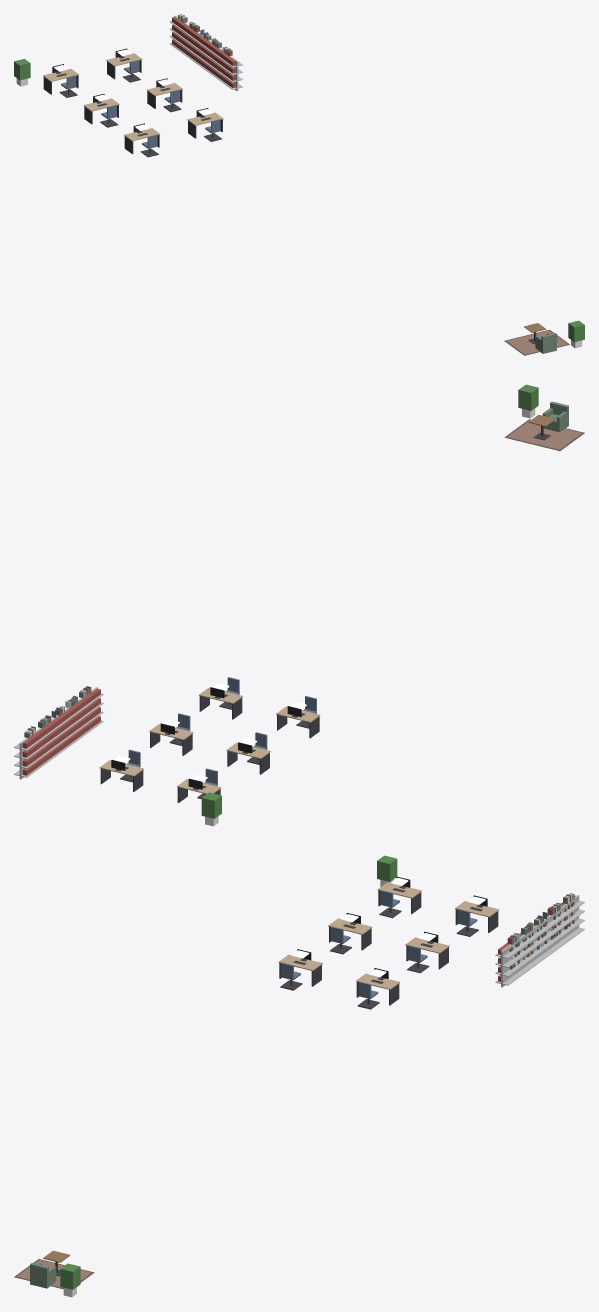
File: fine-s1.glb
3 views of the same model, one above another, from view 1: azimuth 30°, elevation 25°; view 2: azimuth 150°, elevation 25°; view 3: azimuth 330°, elevation 25° (orthographic). The views are drawn at different scales.
Parts seen in each view (by area): view 1: soft-s1, shelving.004, shelving.000, shelving.003, shelving.002, office-desk-real.004, office-desk-real.005, office-desk-real.000, office-desk-real.001, office-desk-real.003, shelving.001; view 2: soft-s1, shelving.000, shelving.004, shelving.001, office-desk-real.005, office-desk-real.002, office-desk-real.004, office-desk-real.001, office-desk-real.003, shelving.003, shelving.002, plant-medium.001 (+2 smaller); view 3: soft-s1, shelving.004, shelving.000, office-desk-real.005, office-desk-real.001, office-desk-real.002, office-desk-real.003, office-desk-real.004, office-desk-real.000, shelving.003, shelving.002, plant-medium.000 (+2 smaller).
Part boxes in pixels (box(x1,y1,x2,y2)): soft-s1: box(178, 14, 569, 355); shelving.004: box(214, 49, 242, 91); shelving.000: box(169, 15, 190, 56); shelving.003: box(203, 40, 224, 81); shelving.002: box(192, 33, 213, 72); office-desk-real.004: box(124, 123, 160, 153); office-desk-real.005: box(187, 108, 223, 138); office-desk-real.000: box(43, 64, 79, 94); office-desk-real.001: box(106, 48, 142, 79); office-desk-real.003: box(147, 78, 182, 108); shelving.001: box(181, 24, 203, 64); soft-s1: box(24, 419, 584, 738); shelving.000: box(14, 727, 49, 779); shelving.004: box(77, 687, 103, 736); shelving.001: box(36, 717, 62, 766); office-desk-real.005: box(199, 687, 242, 719); office-desk-real.002: box(226, 742, 270, 774); office-desk-real.004: box(276, 706, 320, 738); office-desk-real.001: box(99, 760, 143, 791); office-desk-real.003: box(149, 723, 193, 755); shelving.003: box(65, 698, 89, 745); shelving.002: box(51, 708, 76, 756); plant-medium.001: box(201, 792, 221, 826); soft-s1: box(14, 893, 574, 1289); shelving.004: box(495, 936, 530, 987); shelving.000: box(557, 895, 584, 945); office-desk-real.005: box(356, 968, 399, 1005); office-desk-real.001: box(455, 895, 499, 932); office-desk-real.002: box(328, 913, 372, 950); office-desk-real.003: box(405, 931, 449, 969); office-desk-real.004: box(278, 949, 322, 986); office-desk-real.000: box(377, 876, 421, 914); shelving.003: box(516, 926, 543, 974); shelving.002: box(530, 915, 556, 964); plant-medium.000: box(60, 1263, 80, 1297).
Size of the model in its own units: 9.4 by 1.93 by 40.72.
